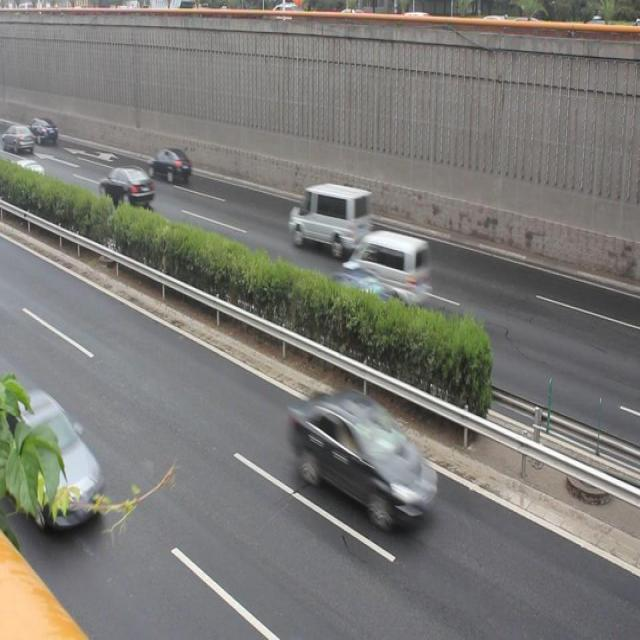car: (282, 388, 436, 538), (1, 383, 103, 522), (322, 261, 401, 346), (101, 168, 152, 216), (142, 143, 193, 184), (11, 153, 50, 187)
truck: (349, 229, 437, 300), (285, 182, 372, 241)
